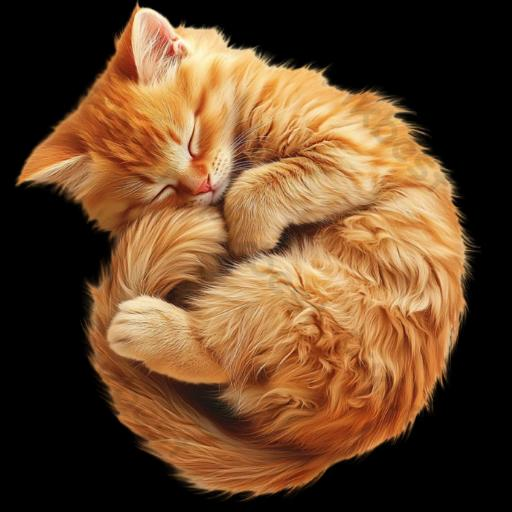cat_sleeping: (18, 8, 467, 493)
